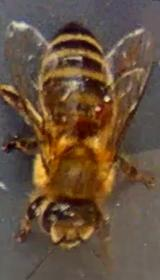varroa_mite: (84, 90, 120, 124)
